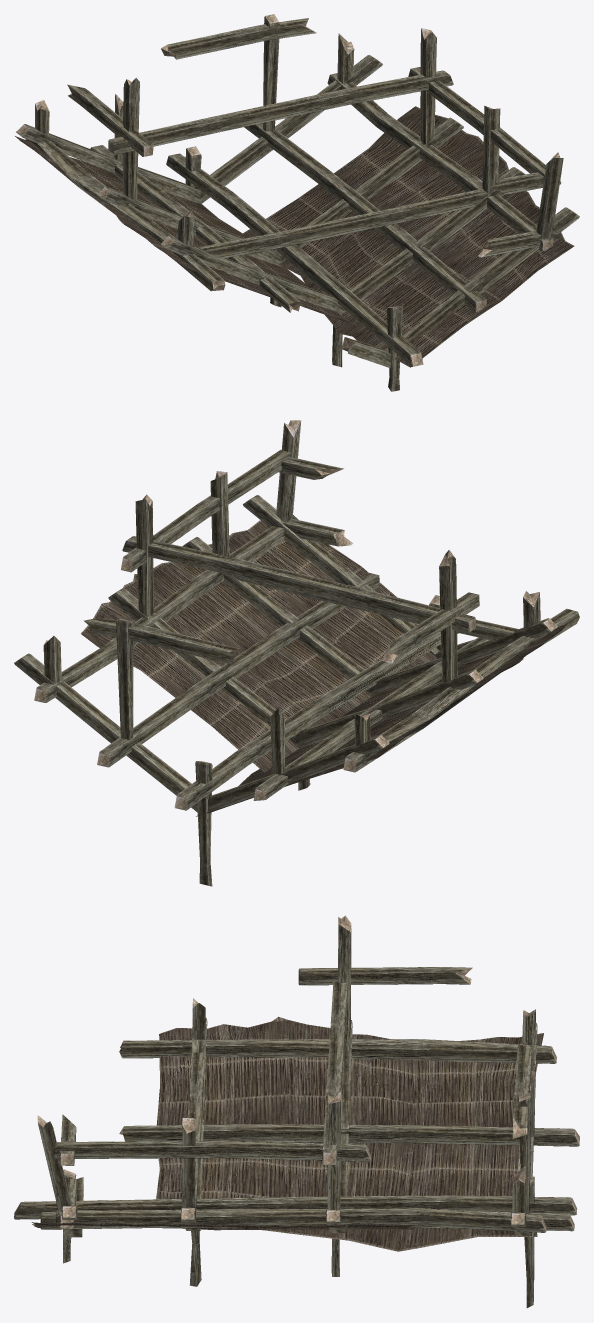
File: TW2_1_HUT_02_7-transformed.glb
3 views of the same model, one above another, from view 1: azimuth 30°, elevation 25°; view 2: azimuth 150°, elevation 25°; view 3: azimuth 270°, elevation 25° (orthographic). The views are drawn at different scales.
Visible parts, largest first — view 1: default; view 2: default; view 3: default.
Boxes of the visible parts, x1,y1,x2,y2 form: default: [15, 14, 579, 391]; default: [14, 420, 579, 886]; default: [14, 915, 579, 1307].
Size of the model in its own units: 9.44 by 7.06 by 11.51.
Materials: 3 (3 with a texture image).
